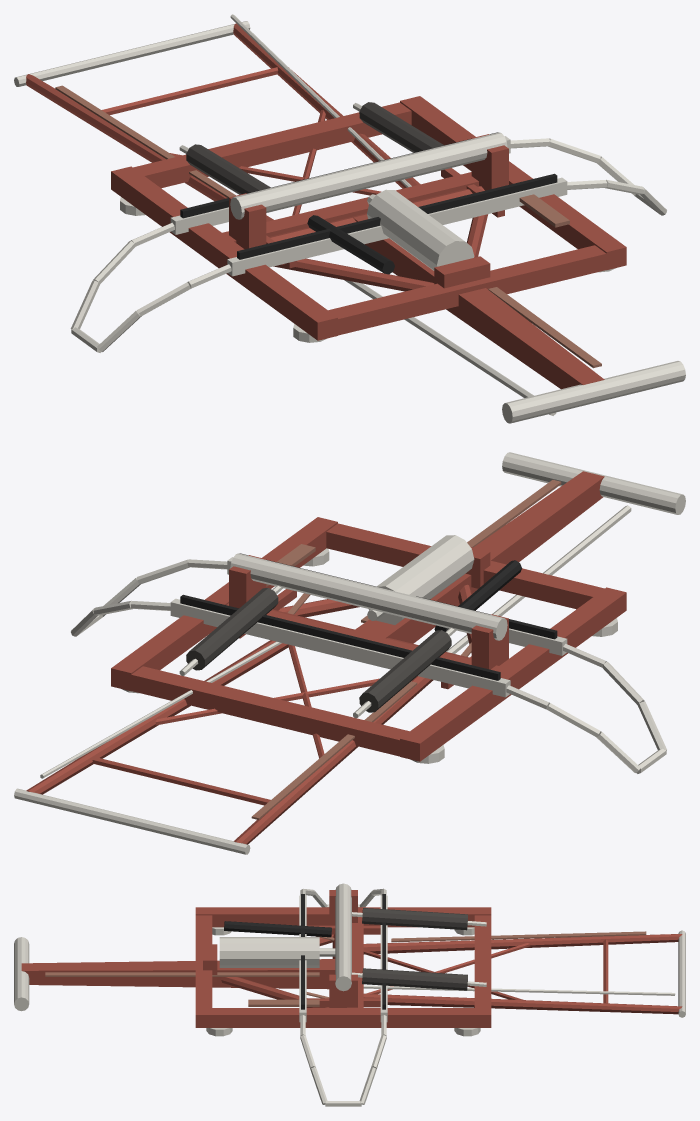
Rendered from eu07_pantograph.fbx.
3 views of the same model, one above another, from view 1: azimuth 30°, elevation 25°; view 2: azimuth 150°, elevation 25°; view 3: azimuth 270°, elevation 25° (orthographic). The views are drawn at different scales.
Parts seen in each view (by area): view 1: Panto_base, Panto_lower, Panto_head, Panto_upper; view 2: Panto_base, Panto_head, Panto_lower, Panto_upper; view 3: Panto_base, Panto_upper, Panto_lower, Panto_head.
Boxes of the visible parts, box(x1,y1,x2,y2) form: Panto_base: box(111, 96, 626, 342); Panto_lower: box(269, 186, 685, 423); Panto_head: box(70, 132, 666, 352); Panto_upper: box(14, 14, 420, 221); Panto_base: box(111, 517, 626, 763); Panto_head: box(71, 553, 666, 773); Panto_lower: box(271, 452, 685, 658); Panto_upper: box(14, 640, 433, 854); Panto_base: box(195, 883, 491, 1036); Panto_upper: box(363, 930, 685, 1017); Panto_lower: box(14, 933, 335, 1011); Panto_head: box(299, 888, 387, 1106).
Bounding box in the file's own units: 1.97 × 0.363 × 2.82.
